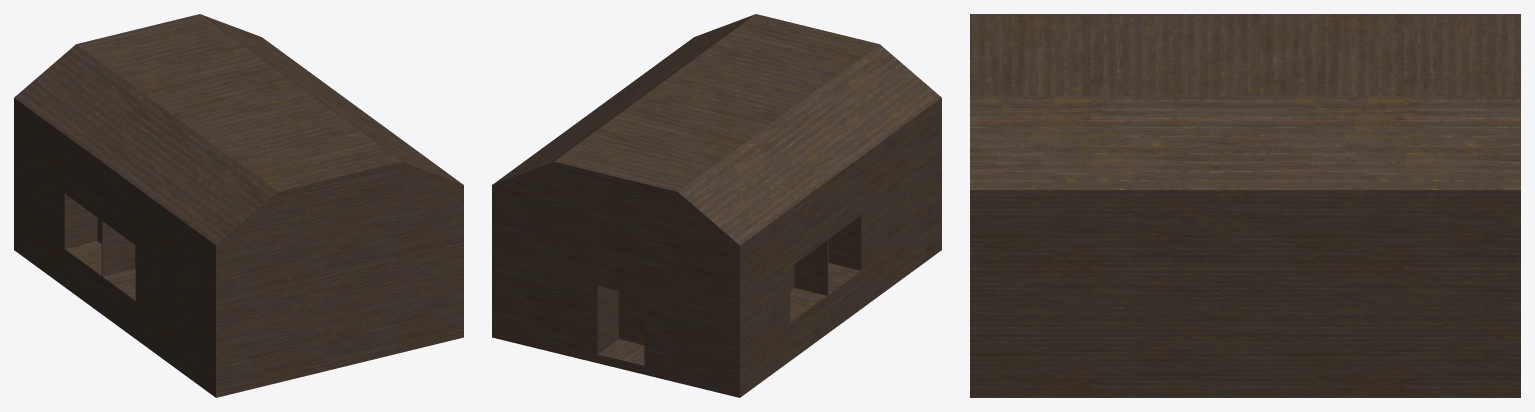
Rendered from house56.obj.
3 views of the same model, side by side, from view 1: azimuth 30°, elevation 25°; view 2: azimuth 150°, elevation 25°; view 3: azimuth 270°, elevation 25° (orthographic). The views are drawn at different scales.
Visible parts, largest first — view 1: 立方体.084; view 2: 立方体.084; view 3: 立方体.084.
Part boxes in pixels (bbox=[...]): 立方体.084: bbox=[14, 14, 463, 397]; 立方体.084: bbox=[492, 14, 941, 397]; 立方体.084: bbox=[970, 14, 1520, 397].
Size of the model in its own units: 34 by 25.02 by 48.
1 material, 1 textured.
